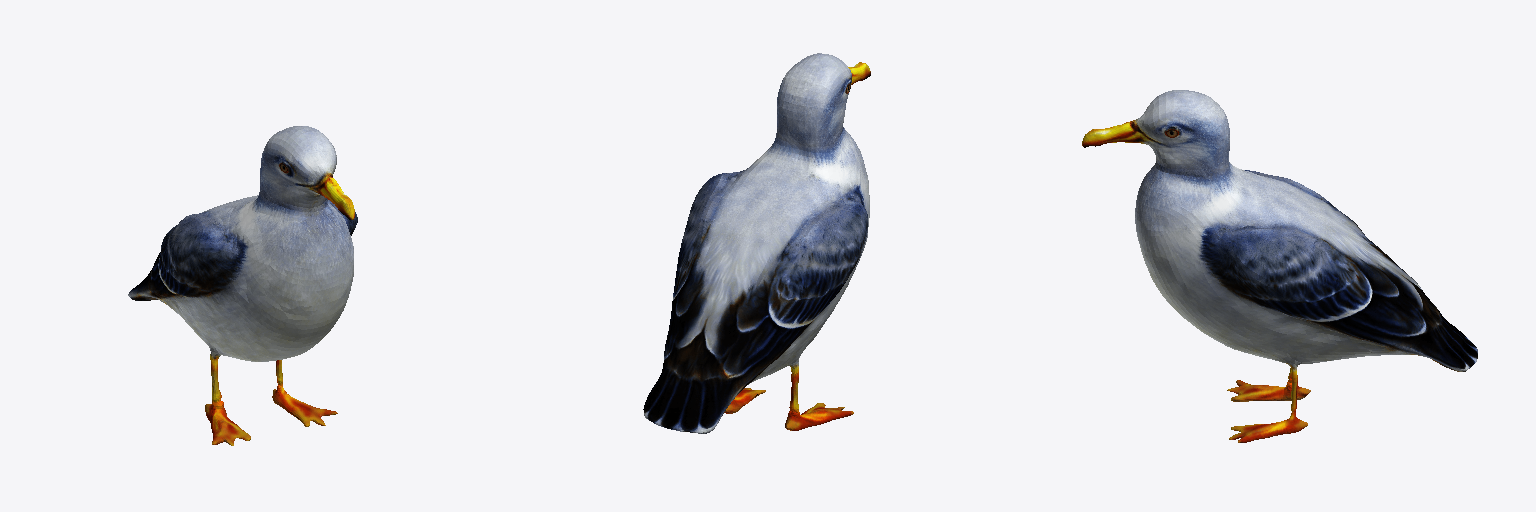
3 renders of one model, left to right at view 1: azimuth 30°, elevation 25°; view 2: azimuth 150°, elevation 25°; view 3: azimuth 270°, elevation 25°, orthographic.
Visible parts, largest first — view 1: Seagull_Quad; view 2: Seagull_Quad; view 3: Seagull_Quad.
Part boxes in pixels (x1,y1,x2,y2): Seagull_Quad: (128,126,357,445); Seagull_Quad: (643,53,870,433); Seagull_Quad: (1082,90,1477,442).
Size of the model in its own units: 0.191 by 0.35 by 0.3853.
Materials: 1 (1 with a texture image).